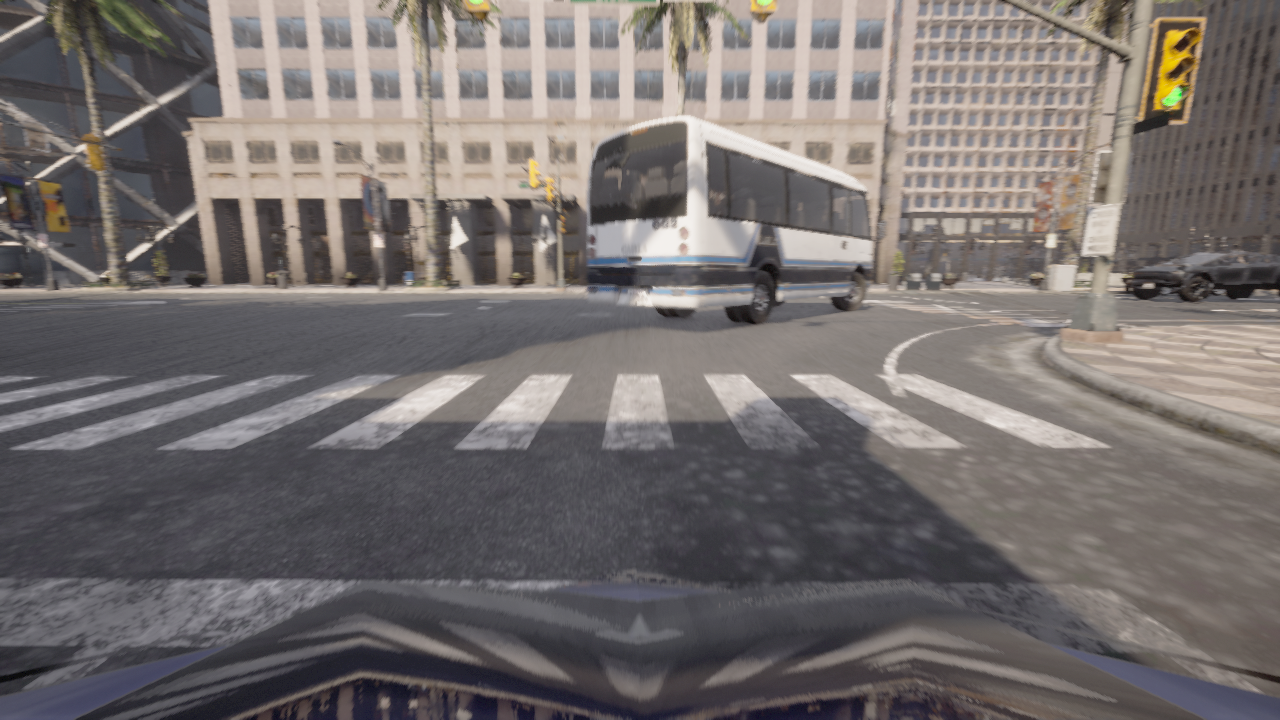cyclist: (0, 569, 1279, 719), (587, 116, 887, 324), (1132, 251, 1279, 302), (1124, 279, 1224, 294)
